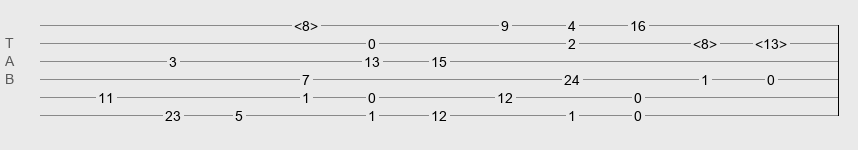0: (368, 90, 376, 100), (368, 36, 376, 46), (634, 90, 642, 100), (634, 108, 642, 118), (767, 72, 775, 82)
1: (302, 90, 310, 100), (368, 108, 376, 118), (568, 108, 576, 118), (701, 72, 709, 82)
11: (98, 90, 114, 100)
12: (431, 108, 447, 118), (497, 90, 513, 100)
13: (364, 54, 380, 64)
15: (431, 54, 447, 64)
16: (630, 18, 646, 28)
2: (568, 36, 576, 46)
23: (165, 108, 181, 118)
24: (564, 72, 580, 82)
3: (169, 54, 177, 64)
4: (568, 18, 576, 28)
5: (235, 108, 243, 118)
7: (302, 72, 310, 82)
9: (501, 18, 509, 28)
harmonic: (755, 36, 787, 46), (294, 18, 318, 28), (693, 36, 717, 46)
